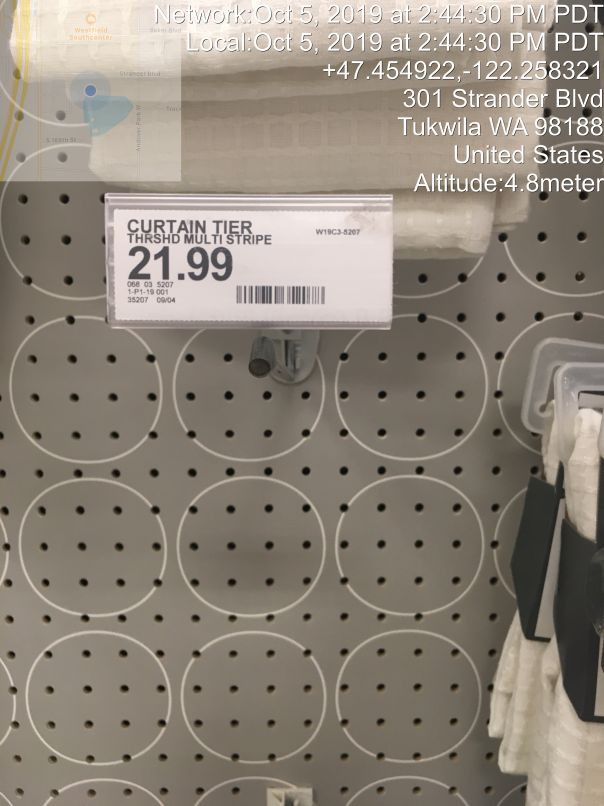Label: (97, 185, 406, 337)
Location: (393, 83, 604, 169)
Time: (147, 3, 603, 57)
Void: (84, 337, 424, 786)
